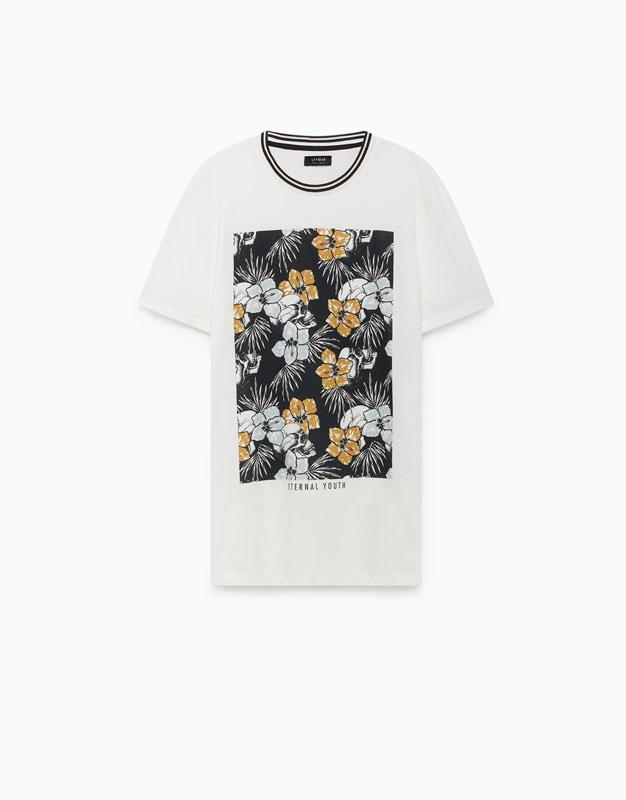teeshirt: (127, 124, 534, 616)
